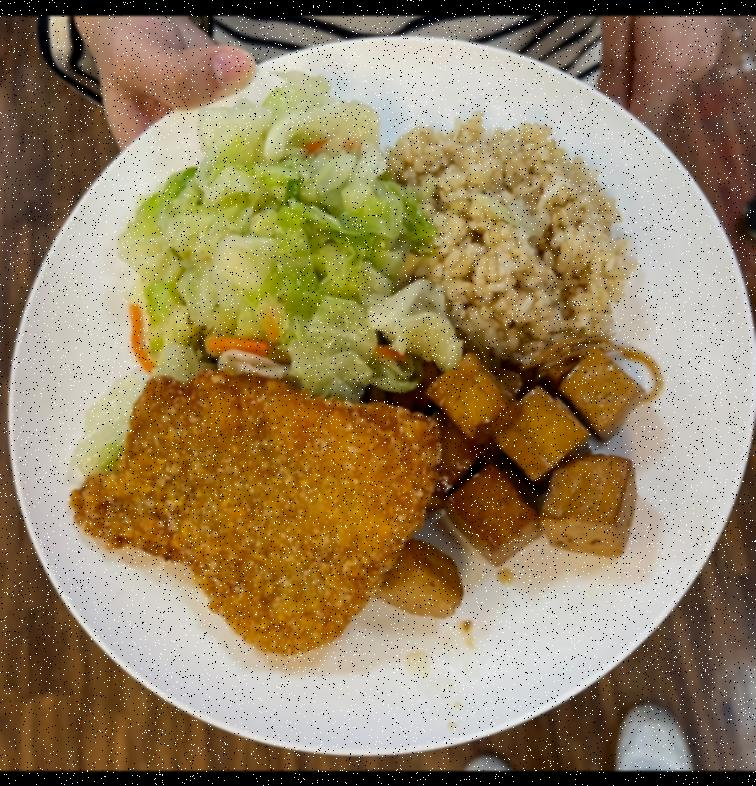brown rice: (387, 119, 625, 368)
chicken steak: (68, 362, 442, 666)
plate: (12, 21, 756, 759)
side dish: (114, 72, 450, 389), (377, 343, 639, 628)
